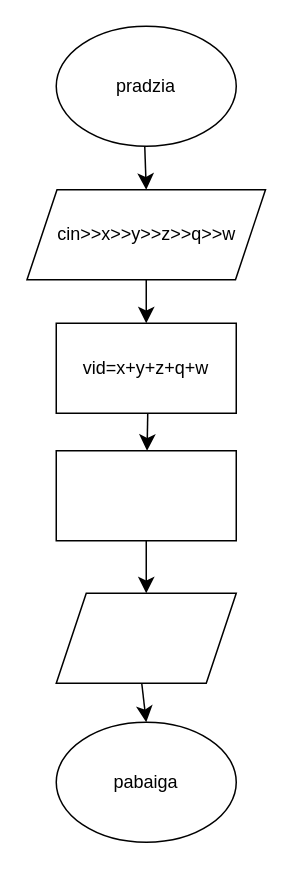
Some shapes in this 291 by 869 pixel diagram are drawn without their labels. Each missing label, with the centre of its shape:
cout<<vid;: (x=145, y=637)
vid=vid/5;: (x=145, y=495)
